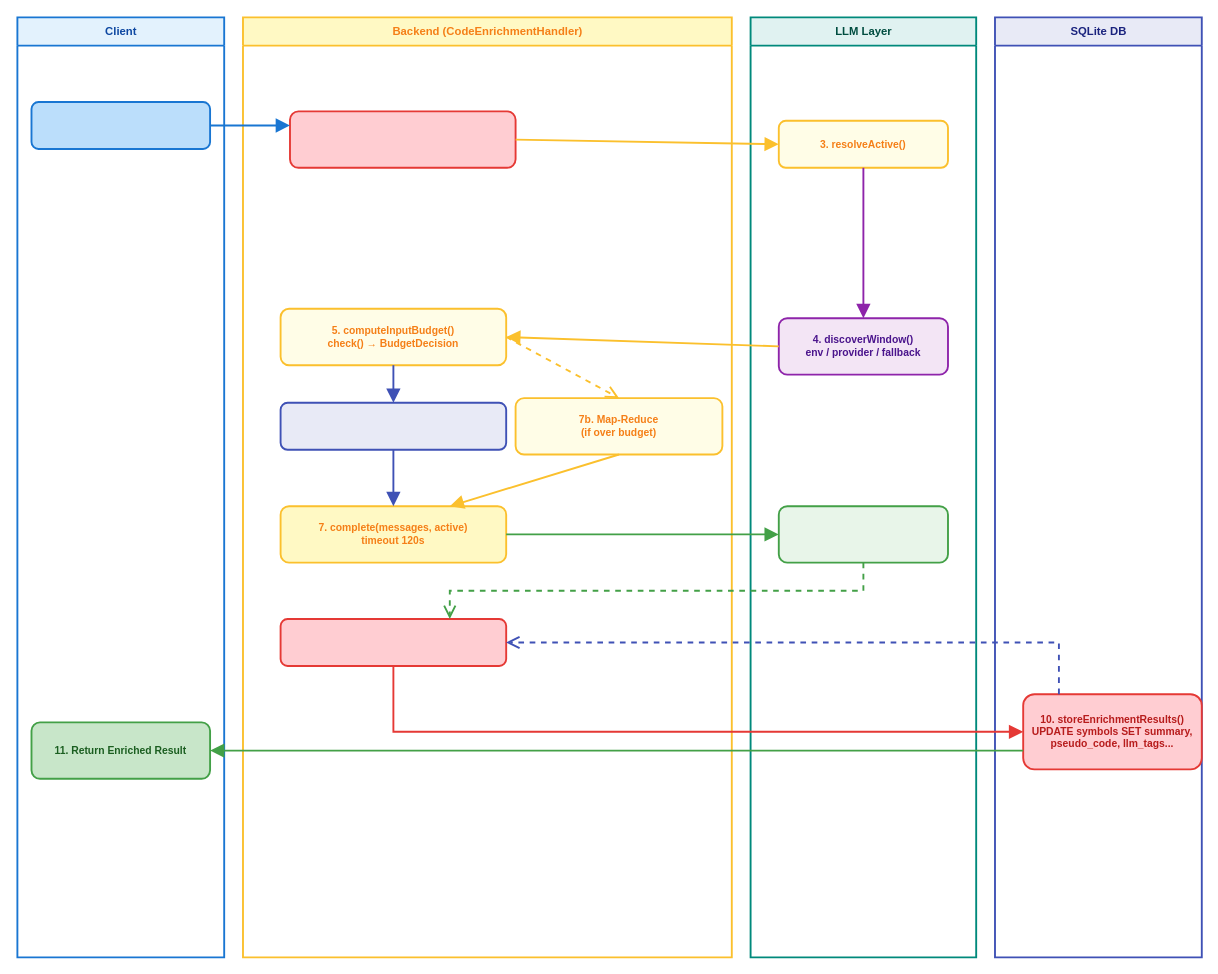
Image size: 1218x974. Some labels were removed from this diagram. Each missing label, with the centre of its shape:
1. POST /enrich: [120,125]
2. loadSymbolContext() all chunks by chunk_index: [402,139]
6. build(strategy, context, budget): [393,425]
8. POST /api/chat options.num_ctx: [862,534]
9. parseEnrichmentResponse(): [393,642]
